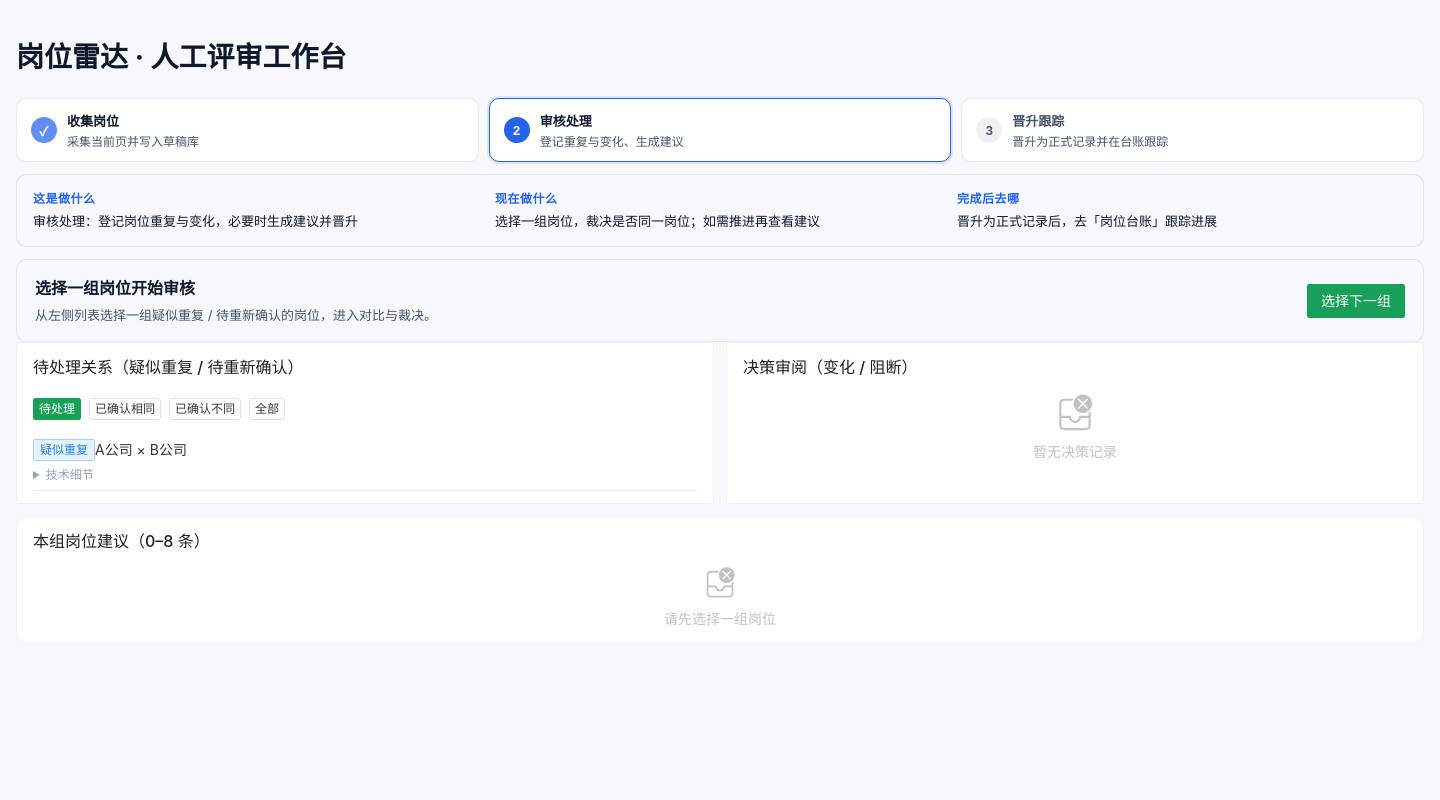
Test: RadarReviewPage 候选对比 + 变化 + 证据 › V8-5 推荐入口可发现性：选中关系后立即显示生成/加载按钮，标题为「本组岗位建议（0–8 条）」
Step 1. Click the button with test id "relation-rel-1" → (110,450), box [33, 439, 187, 461]
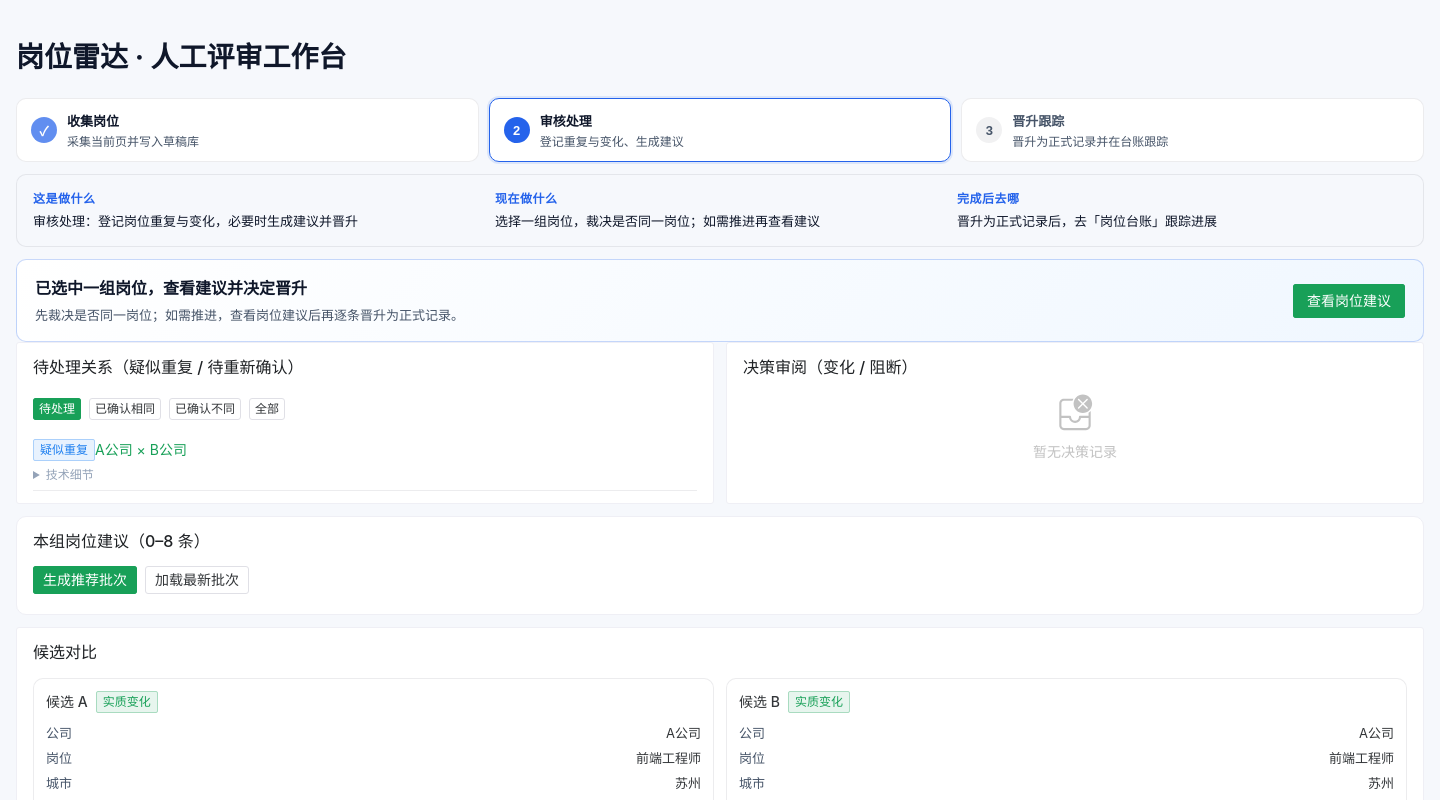
Expected: the text "本组岗位建议（0–8 条）" is shown, [33, 531, 210, 551]
Now the button with test id "recommendation-generate" is shown, box [33, 566, 137, 594]
Now the button with test id "recommendation-load-latest" is shown, box [145, 566, 249, 594]
